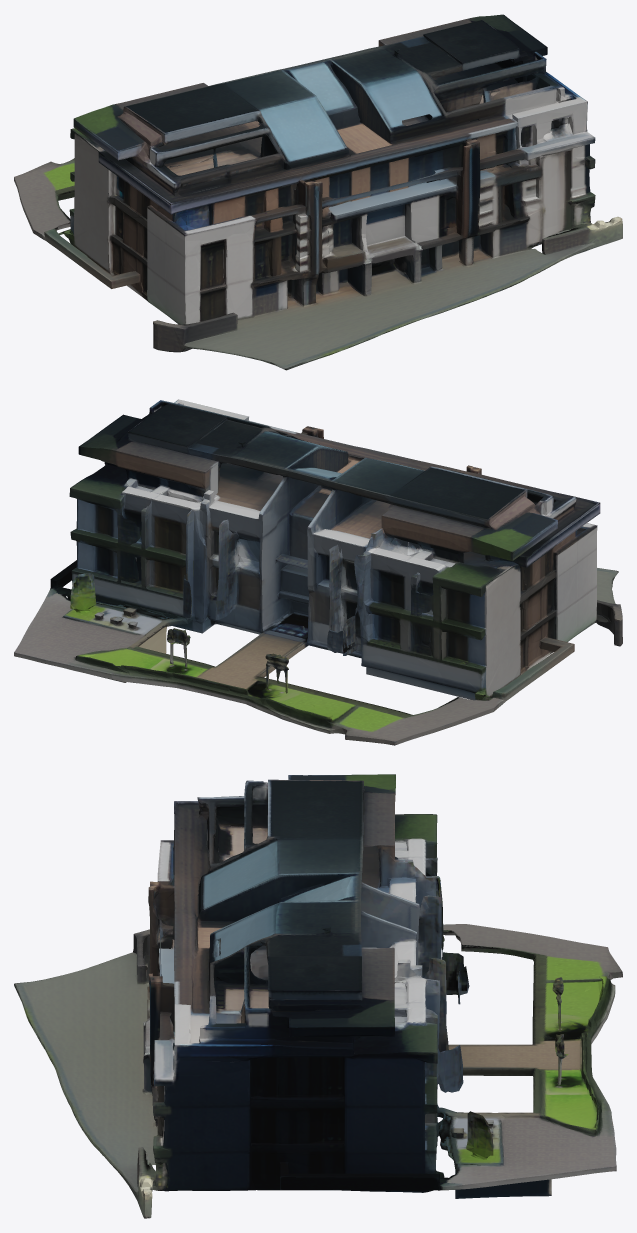
3 views of the same model, one above another, from view 1: azimuth 30°, elevation 25°; view 2: azimuth 150°, elevation 25°; view 3: azimuth 270°, elevation 25° (orthographic). The views are drawn at different scales.
Parts seen in each view (by area): view 1: world; view 2: world; view 3: world.
Boxes of the visible parts, box(x1,y1,x2,y2) form: world: box(14, 14, 622, 370); world: box(14, 399, 622, 745); world: box(14, 774, 622, 1218).
Bounding box in the file's own units: 0.9875 × 0.362 × 0.9429.
Materials: 1 (1 with a texture image).
